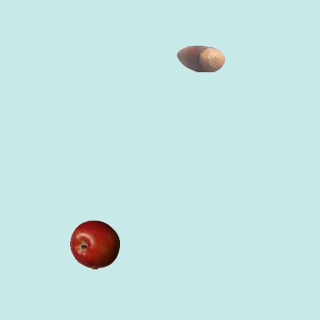Apple Braeburn: (69, 219, 119, 269)
Hazelnut: (175, 33, 225, 83)
